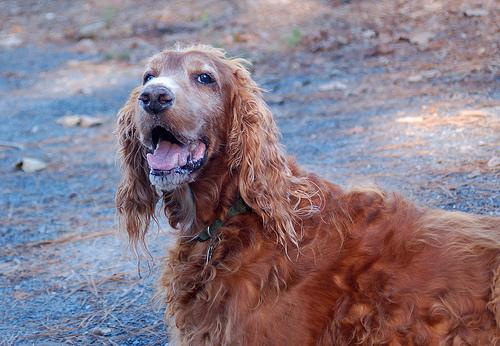Irish_setter: (115, 43, 499, 345)
